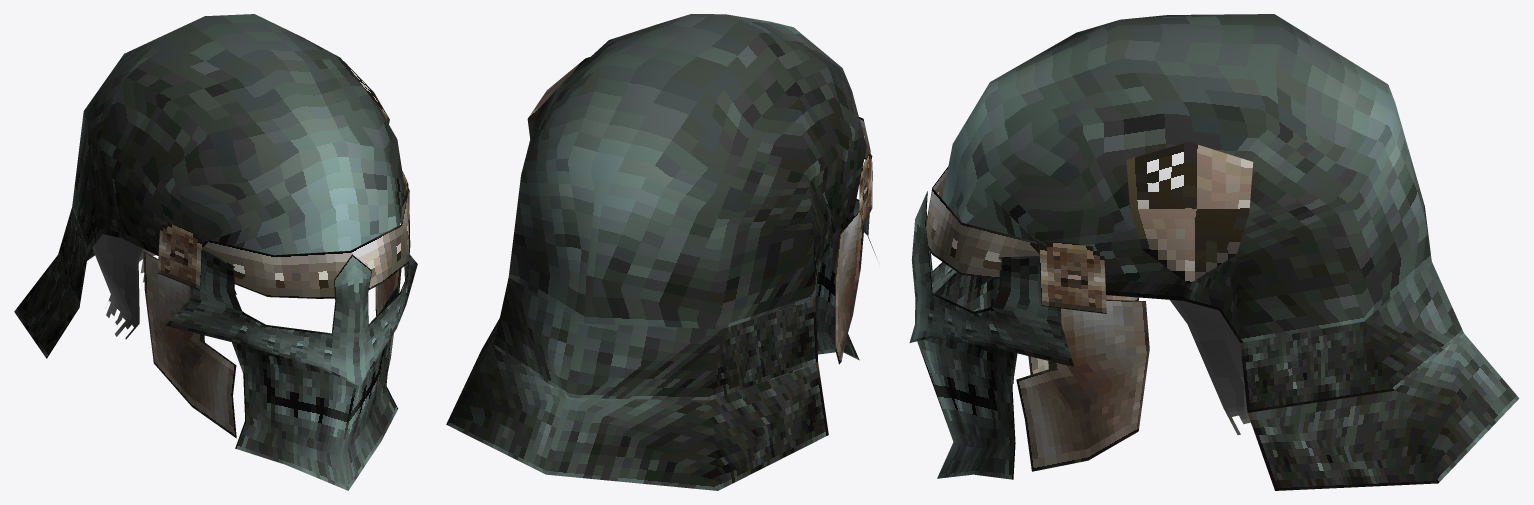
The model's file is m_helmet258.obj.
3 renders of one model, left to right at view 1: azimuth 30°, elevation 25°; view 2: azimuth 150°, elevation 25°; view 3: azimuth 270°, elevation 25°, orthographic. The views are drawn at different scales.
Parts seen in each view (by area): view 1: mesh02, mesh00; view 2: mesh02, mesh01; view 3: mesh02, mesh01, mesh00.
Boxes of the visible parts, left/top/right/bottom form: mesh02: left=14, top=14, right=417, bottom=490; mesh00: left=92, top=234, right=155, bottom=339; mesh02: left=446, top=14, right=876, bottom=490; mesh01: left=527, top=57, right=589, bottom=138; mesh02: left=909, top=14, right=1519, bottom=490; mesh01: left=1126, top=142, right=1253, bottom=283; mesh00: left=1170, top=300, right=1251, bottom=435.
Bounding box in the file's own units: 21.41 × 23.6 × 29.07.
3 materials, 3 textured.
